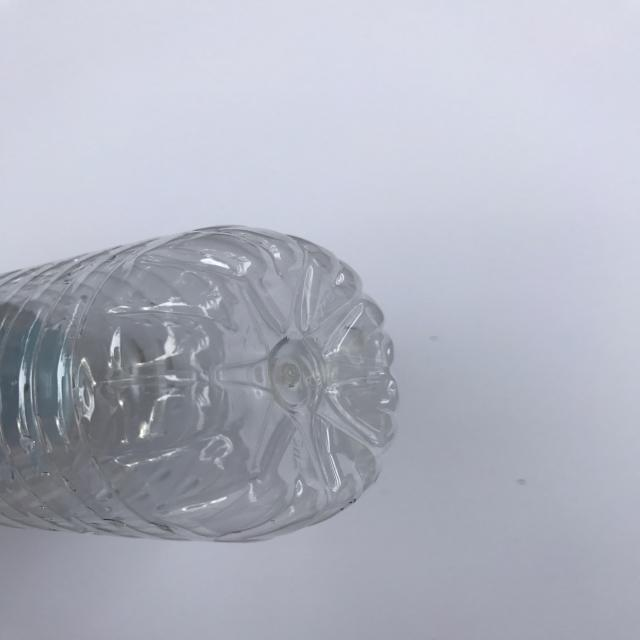plastic: (0, 220, 411, 552)
